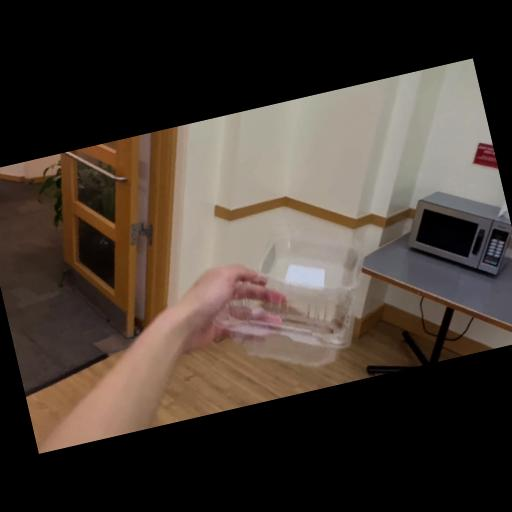small_plastic_container: (203, 219, 380, 387)
